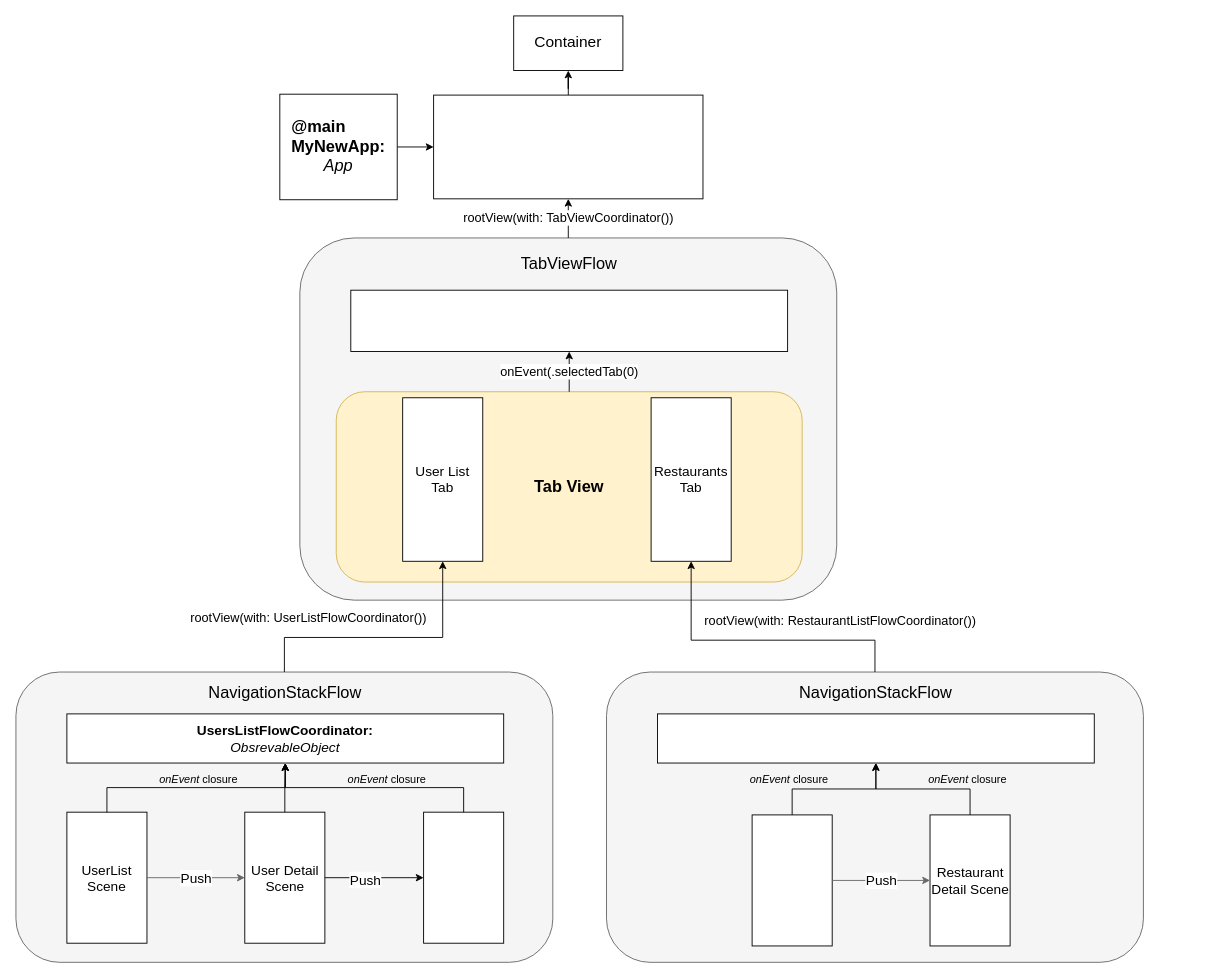
Some shapes in this 1205 by 978 pixel diagram are drawn without their labels. The centre of each missing label's shape, as x and y in pixels:
"AppCoordinator: ObsevableObject" belongs at [568,146].
"Edit User Scene" belongs at [463,877].
"Restaurant List Scene" belongs at [791,880].
"RestaurantListFlowCoordinator: ObsrevableObject" belongs at [875,738].
"TabViewCoordinator: ObsrevableObject" belongs at [569,320].
